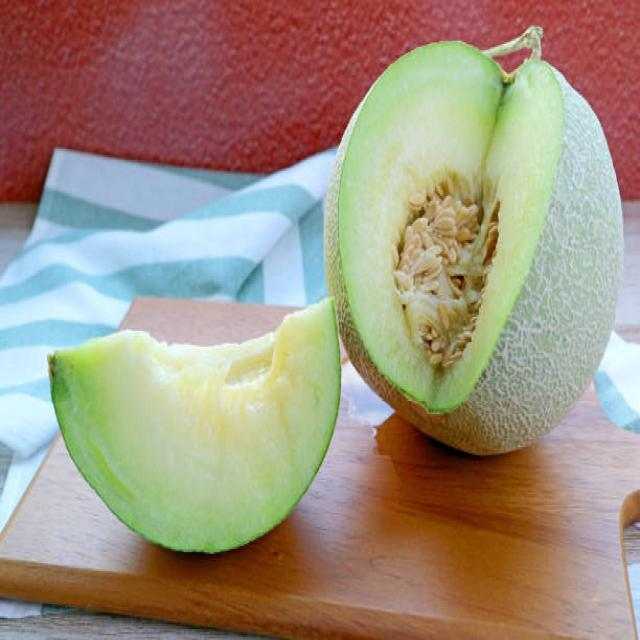melon: (331, 24, 626, 458), (42, 300, 347, 564)
